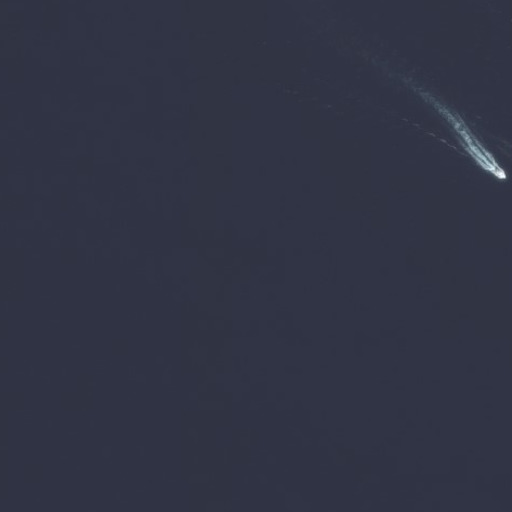ship: (485, 160, 508, 183)
